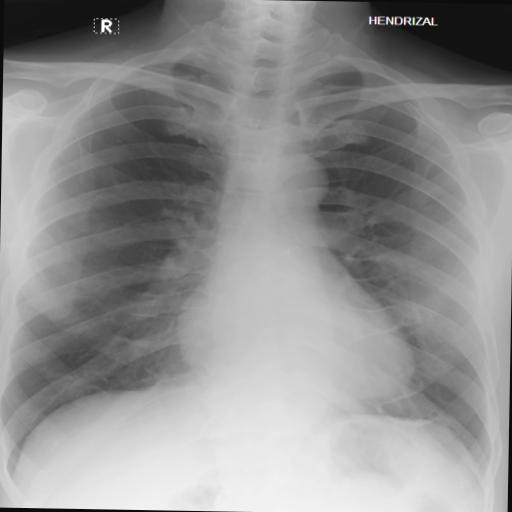kardiomegali: (0, 22, 507, 482)
